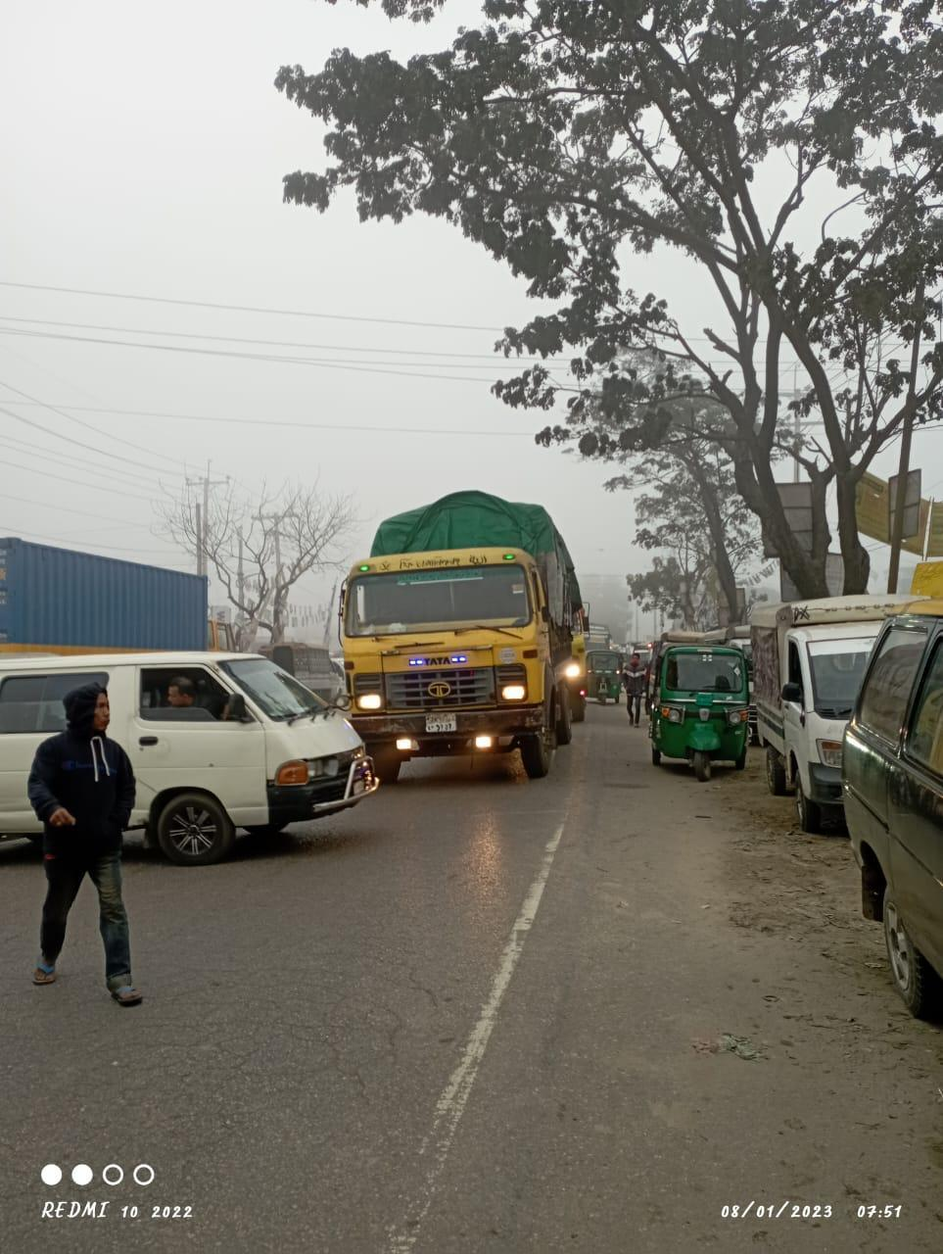Car: (2, 638, 374, 843), (836, 606, 943, 1035), (744, 589, 870, 820)
Truck: (327, 490, 584, 777), (4, 528, 245, 665)
